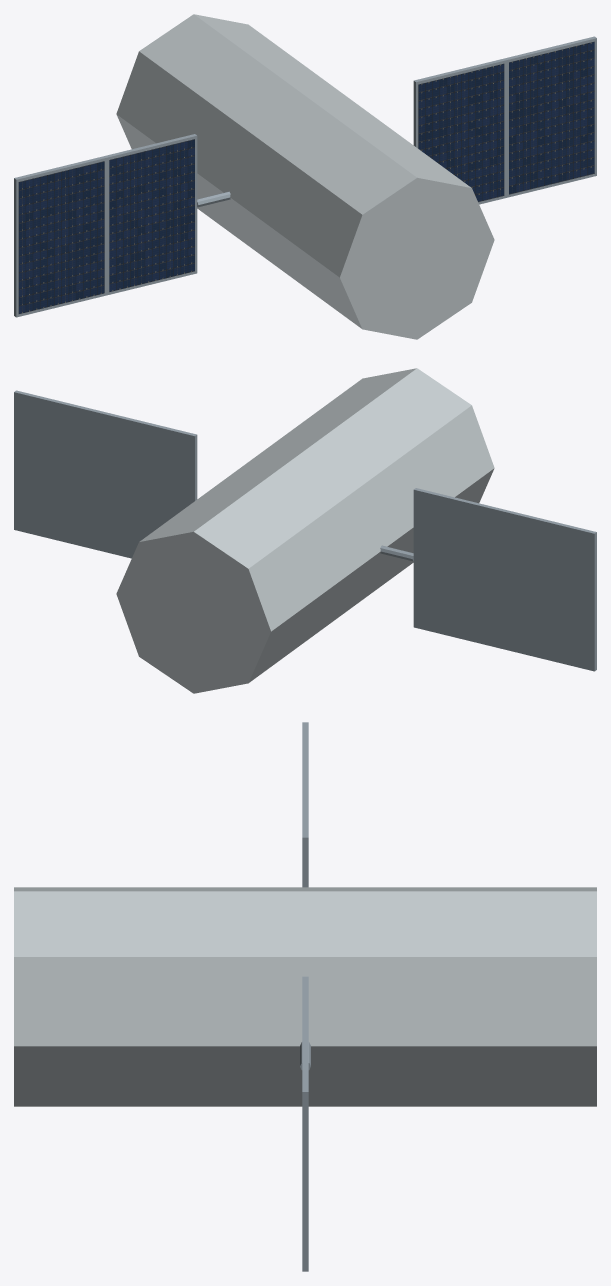
File: ref-formosat-5-42920.glb
The picture shows the model from 3 angles, top to bottom: view 1: azimuth 30°, elevation 25°; view 2: azimuth 150°, elevation 25°; view 3: azimuth 270°, elevation 25°; orthographic projection. The views are drawn at different scales.
Visible parts, largest first — view 1: Spacecraft body, Photovoltaic laminates (×4), Array frame (×4); view 2: Spacecraft body, Array frame (×4); view 3: Spacecraft body, Array frame (×2).
Boxes of the visible parts, x1=… form: Spacecraft body: x1=116, y1=14, x2=494, y2=339; Photovoltaic laminates (×4): x1=18, y1=41, x2=594, y2=313; Array frame (×4): x1=14, y1=36, x2=596, y2=317; Spacecraft body: x1=116, y1=368, x2=494, y2=693; Array frame (×4): x1=14, y1=390, x2=596, y2=671; Spacecraft body: x1=14, y1=887, x2=596, y2=1106; Array frame (×2): x1=302, y1=780, x2=308, y2=1271.
Bounding box in the file's own units: 4.5 × 1.2 × 3.
Materials: 3 (1 with a texture image).
